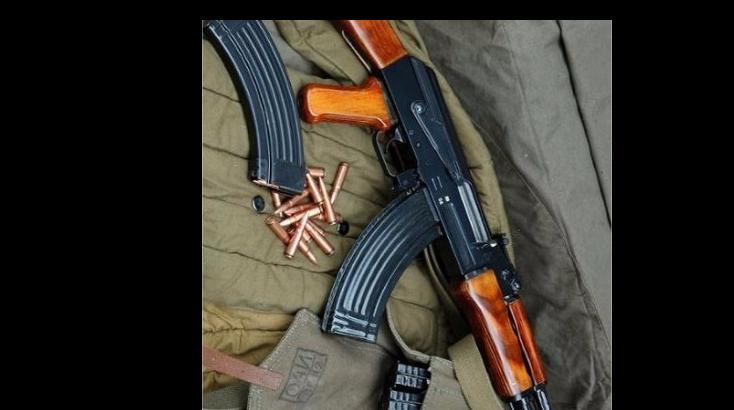larga: (296, 20, 553, 410)
